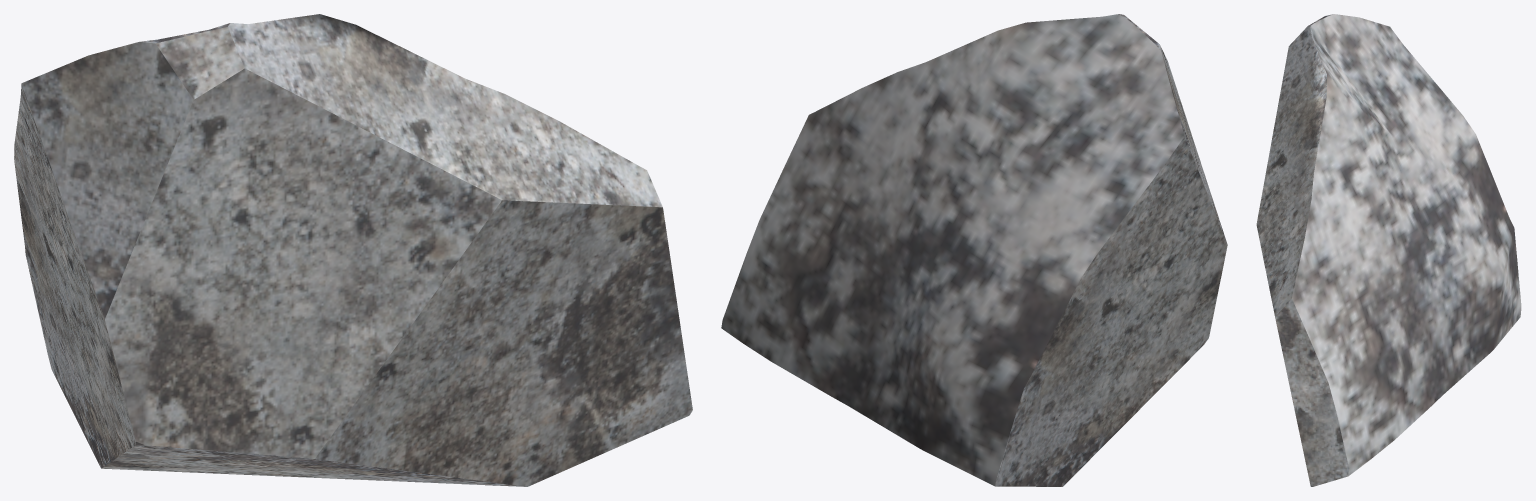
Rendered from Asteroid_Large_001_02_006_03_014.fbx.
3 views of the same model, side by side, from view 1: azimuth 30°, elevation 25°; view 2: azimuth 150°, elevation 25°; view 3: azimuth 270°, elevation 25° (orthographic). The views are drawn at different scales.
Visible parts, largest first — view 1: Asteroid_Large_001_02_006_03_014; view 2: Asteroid_Large_001_02_006_03_014; view 3: Asteroid_Large_001_02_006_03_014.
Boxes of the visible parts, box(x1,y1,x2,y2) form: Asteroid_Large_001_02_006_03_014: box(14, 14, 692, 486); Asteroid_Large_001_02_006_03_014: box(721, 14, 1227, 486); Asteroid_Large_001_02_006_03_014: box(1256, 14, 1521, 486).
Bounding box in the file's own units: 15.32 × 12.72 × 9.1.
